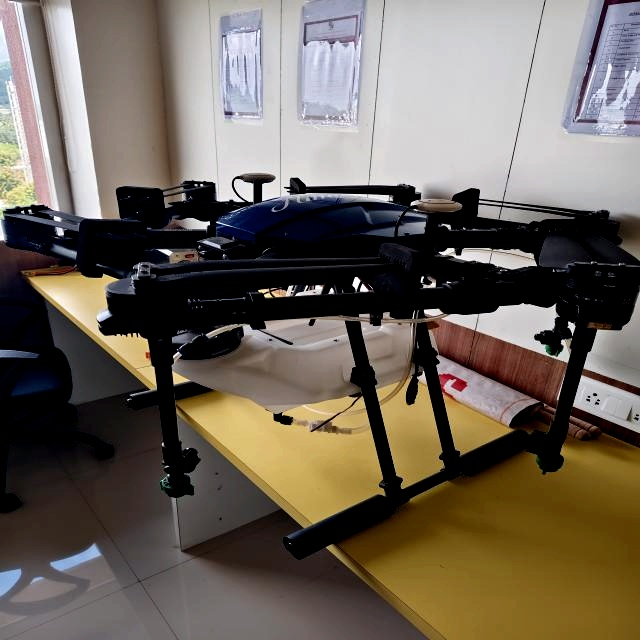agriculturedrone: (2, 163, 640, 566)
